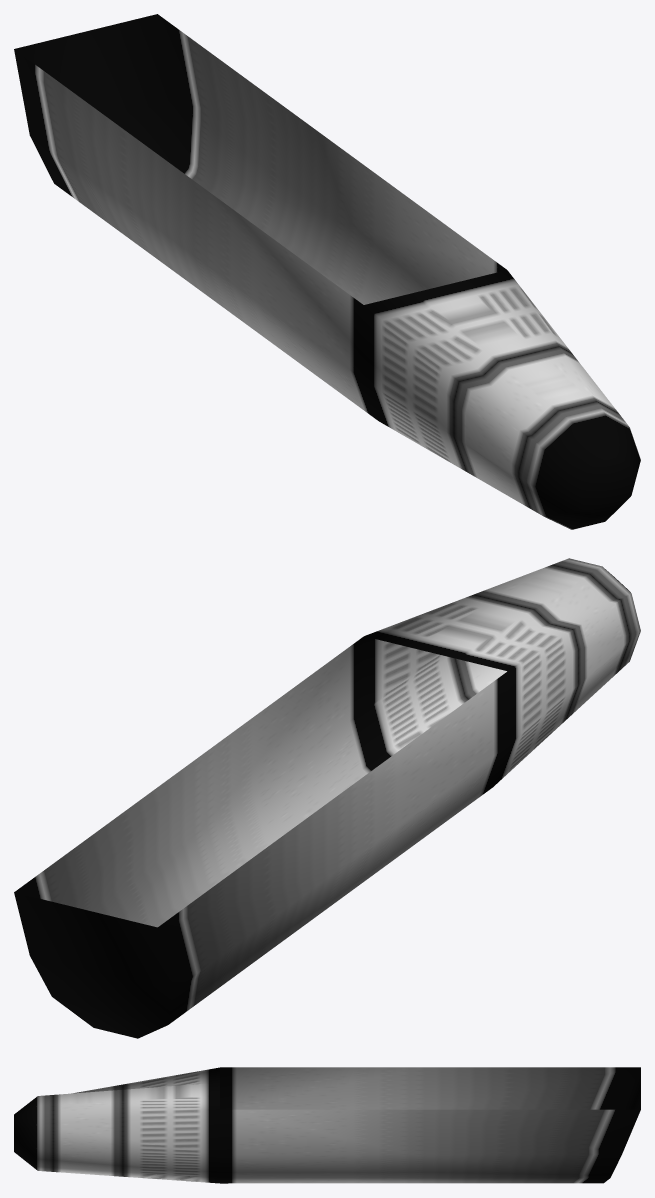
The model's file is ReconTurret.fbx.
3 renders of one model, top to bottom at view 1: azimuth 30°, elevation 25°; view 2: azimuth 150°, elevation 25°; view 3: azimuth 270°, elevation 25°, orthographic. The views are drawn at different scales.
Parts seen in each view (by area): view 1: ReconTurret; view 2: ReconTurret; view 3: ReconTurret.
Part boxes in pixels (x1,y1,x2,y2): ReconTurret: [14, 14, 640, 529]; ReconTurret: [14, 558, 640, 1038]; ReconTurret: [14, 1067, 640, 1183].
Bounding box in the file's own units: 27.99 × 27.2 × 176.
